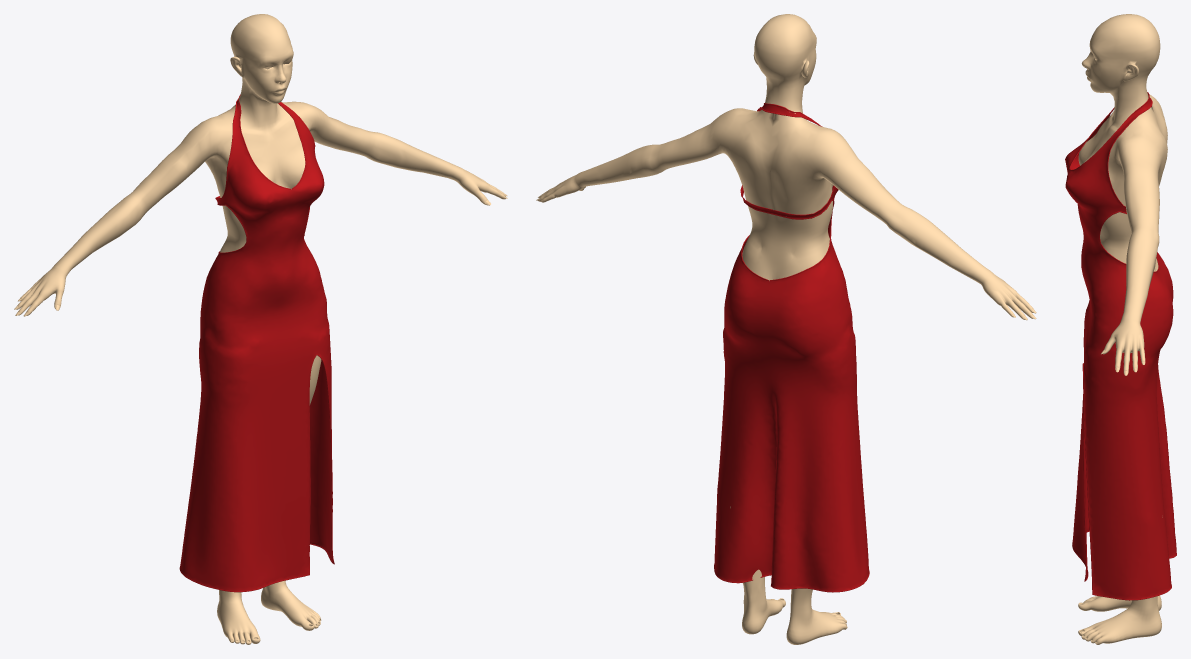
The model's file is dress3.glb.
The picture shows the model from 3 angles, left to right: view 1: azimuth 30°, elevation 25°; view 2: azimuth 150°, elevation 25°; view 3: azimuth 270°, elevation 25°; orthographic projection.
Parts seen in each view (by area): view 1: EveningDress, Body; view 2: EveningDress, Body; view 3: EveningDress, Body.
Boxes of the visible parts, x1,y1,x2,y2 form: EveningDress: (179,94,334,592); Body: (16,14,506,644); EveningDress: (714,103,869,592); Body: (538,14,1033,644); EveningDress: (1065,92,1176,600); Body: (1078,14,1167,644).
Bounding box in the file's own units: 1.58 × 1.85 × 0.3089.
